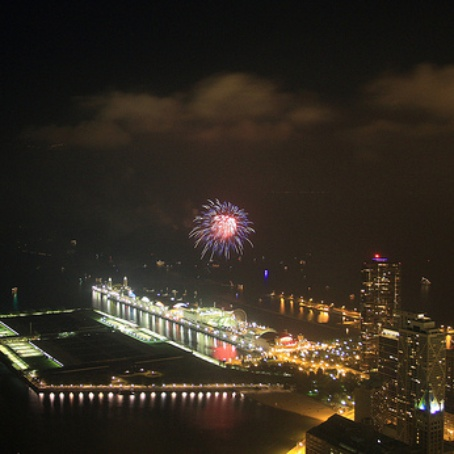building: (369, 313, 452, 453), (362, 256, 404, 388)
fireworks: (172, 192, 280, 274)
sky: (9, 1, 448, 236)
